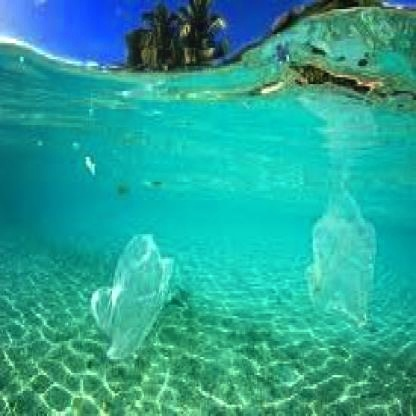pbag: (89, 234, 179, 366), (302, 189, 380, 332)
